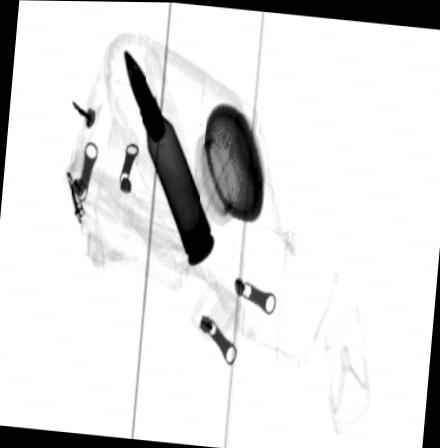Bullet: (122, 46, 215, 265)
